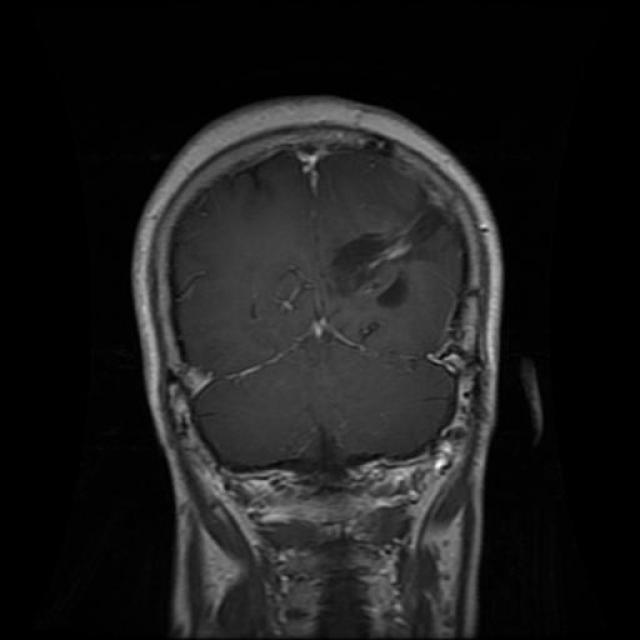glioma: (326, 228, 419, 314)
